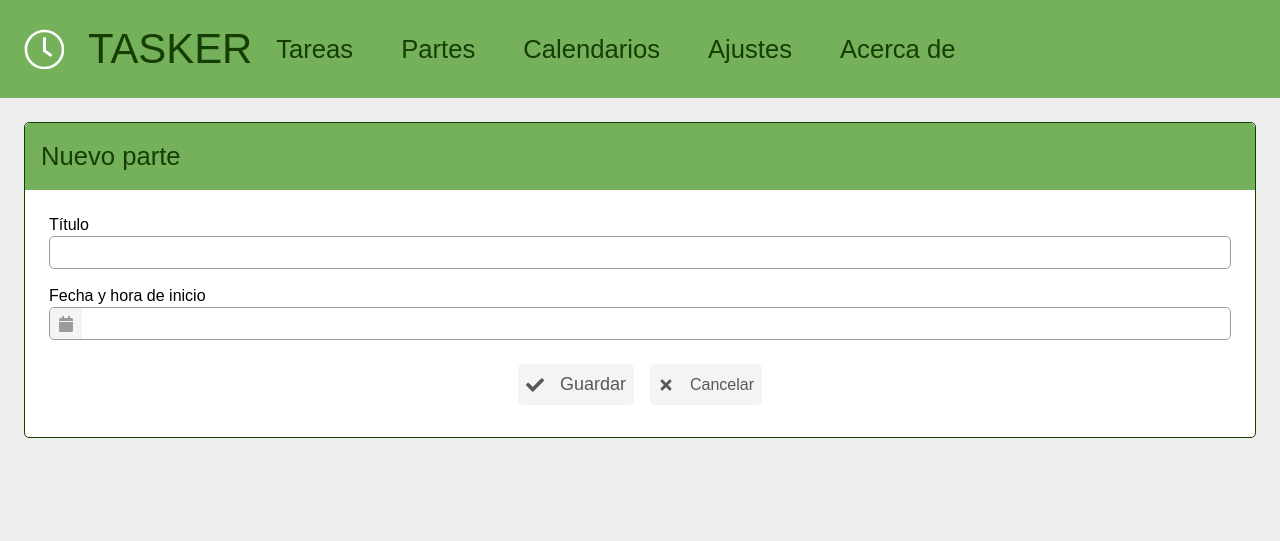
Test: Nuevo parte › Muestra un mensaje de error si no se ha podido añadir el parte, manetniendo los datos introducidos
Step 1. Type "Parte error" into the field named "title" → x=640, y=252, box [49, 236, 1231, 269]
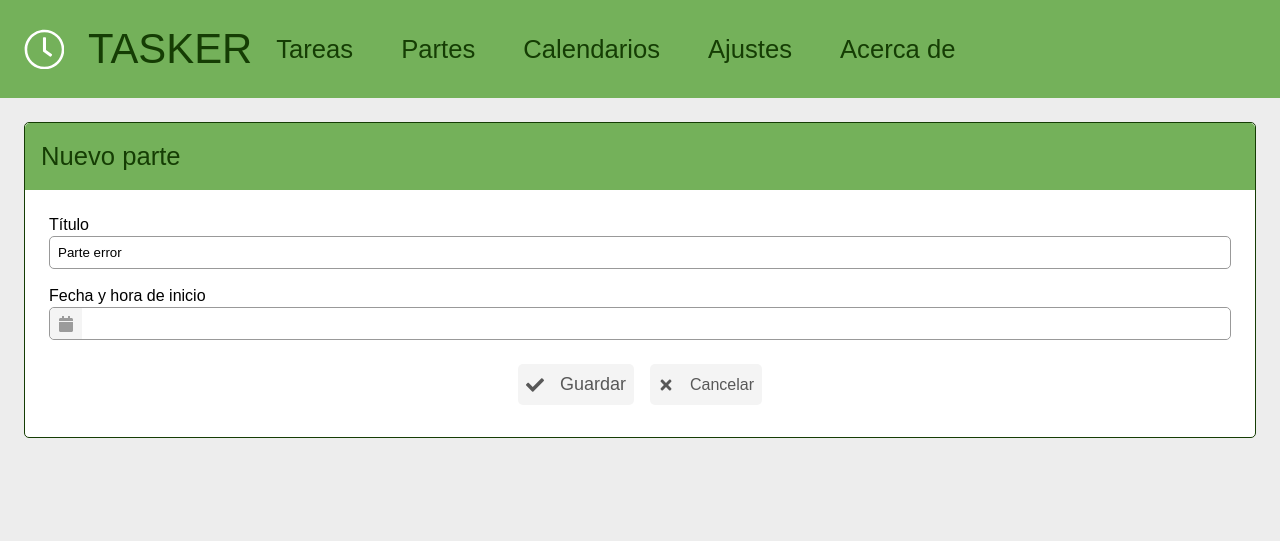
Step 2. Type "01/01/2020 08:00" into the field named "startDatetime" → x=656, y=324, box [82, 308, 1230, 339]
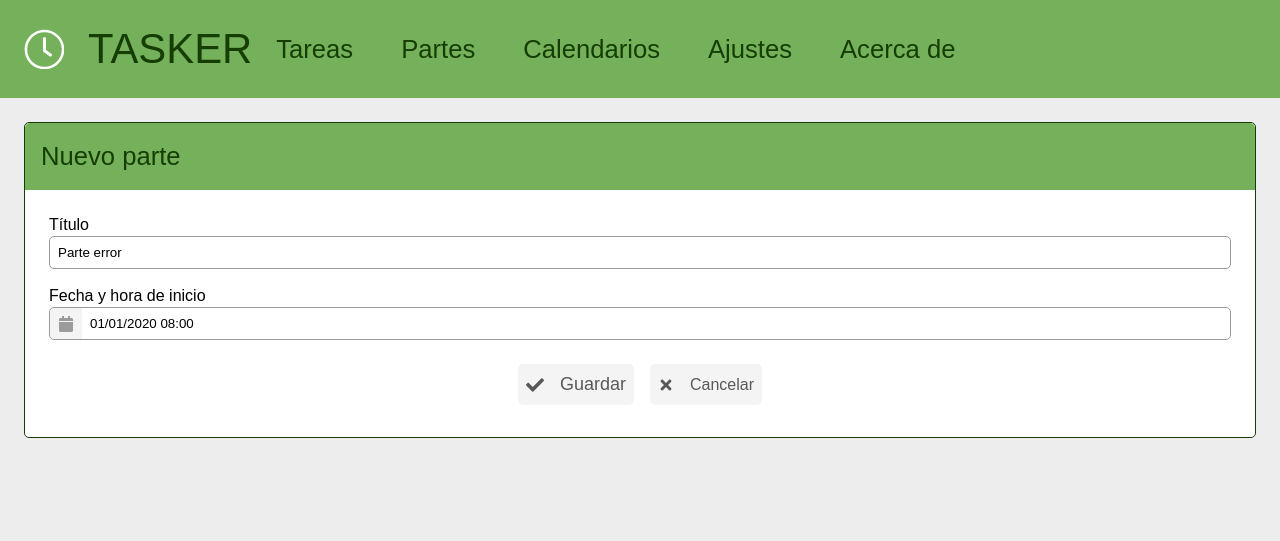
Step 3. Click the button "Guardar" → x=576, y=384, box [518, 364, 634, 405]
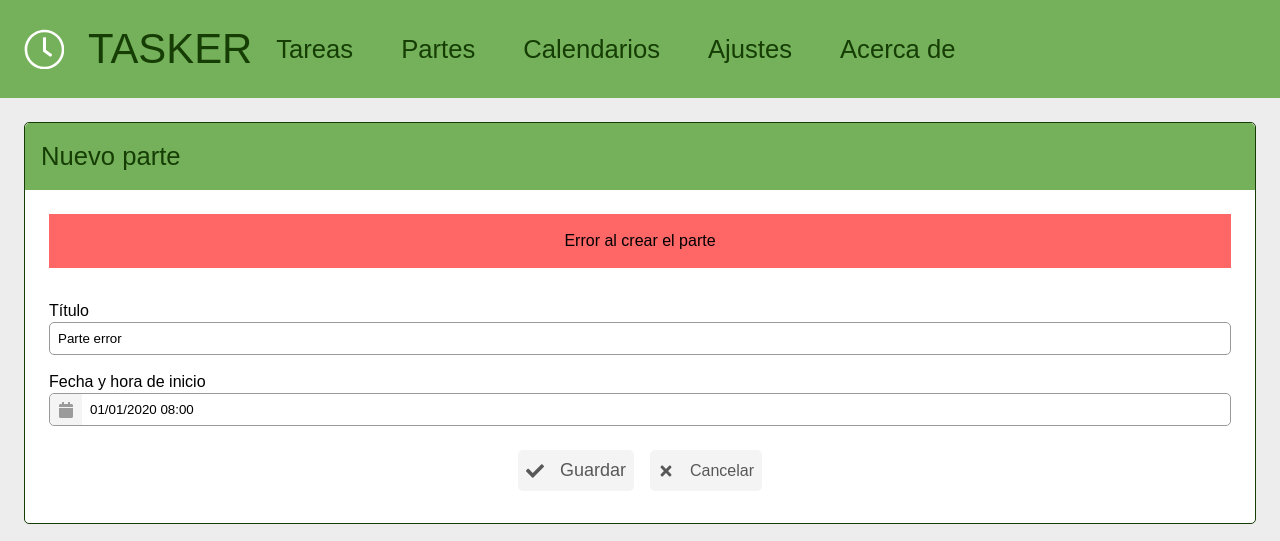
Expected: the text named "error-message" reads "Error al crear el parte", [564, 232, 716, 249]
